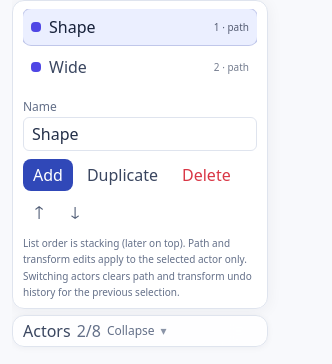
it: ActorList rename integration › persists a committed rename in the list while playback head updates
The width and height of the screenshot is (332, 364).
Clear the field with test id "actor-name-input" at (140, 134), box [23,117,257,151]
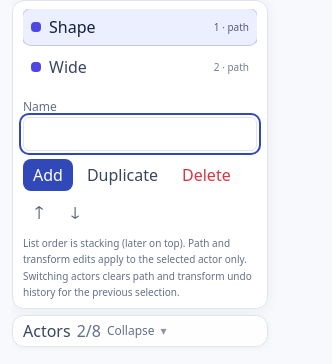
Type keys "Relay"
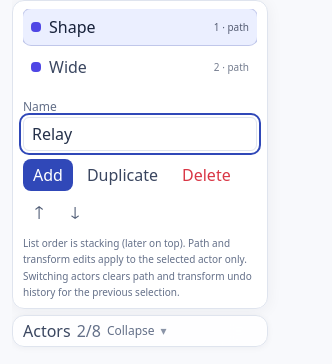
Press Enter
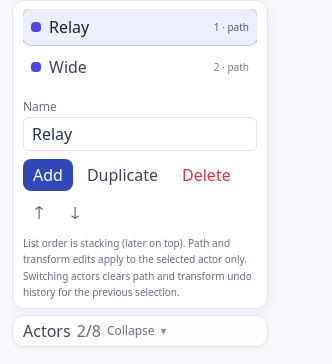
expect the text "Relay" is shown: met, box [49,16,89,38]
expect the option with test id "actor-list-item-a1" shows "Relay": met, box [23,9,257,45]
